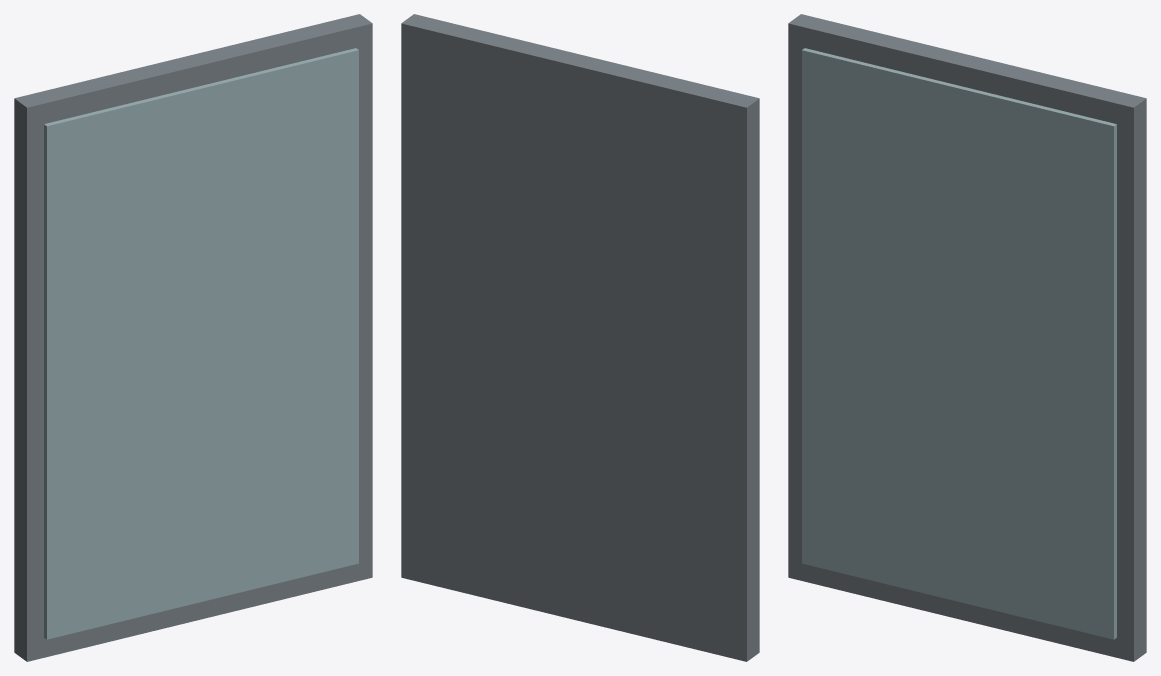
The picture shows the model from 3 angles, left to right: view 1: azimuth 30°, elevation 25°; view 2: azimuth 150°, elevation 25°; view 3: azimuth 330°, elevation 25°; orthographic projection.
Parts seen in each view (by area): view 1: 001_Mirror_glass, 000_Mirror_backing; view 2: 000_Mirror_backing; view 3: 001_Mirror_glass, 000_Mirror_backing.
Part boxes in pixels (x1,y1,x2,y2): 001_Mirror_glass: (44, 48, 358, 639); 000_Mirror_backing: (14, 14, 372, 661); 000_Mirror_backing: (401, 14, 759, 661); 001_Mirror_glass: (802, 48, 1116, 639); 000_Mirror_backing: (788, 14, 1146, 661).
Bounding box in the file's own units: 0.62 × 0.95 × 0.0495.
